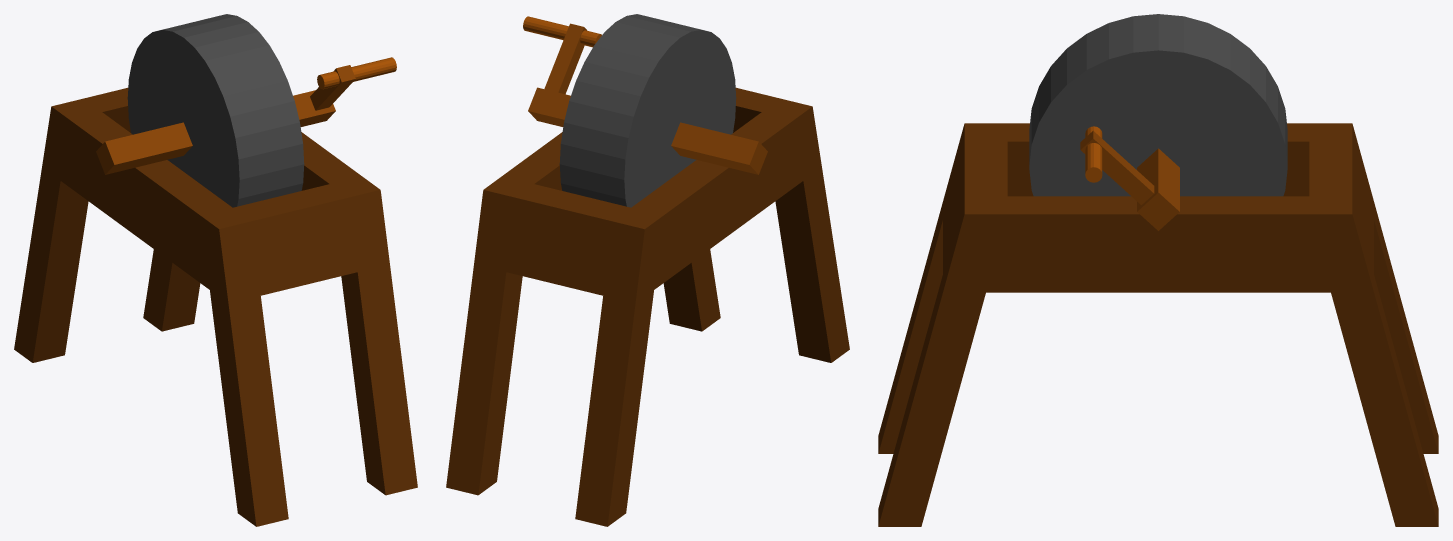
Rendered from rebolo.fbx.
The picture shows the model from 3 angles, left to right: view 1: azimuth 30°, elevation 25°; view 2: azimuth 150°, elevation 25°; view 3: azimuth 270°, elevation 25°; orthographic projection. The views are drawn at different scales.
Parts seen in each view (by area): view 1: Base, Pedra; view 2: Base, Pedra; view 3: Base, Pedra.
Part boxes in pixels (bbox=[...]): Base: bbox=[14, 87, 417, 526]; Pedra: bbox=[96, 14, 396, 207]; Base: bbox=[446, 87, 849, 526]; Pedra: bbox=[523, 14, 767, 207]; Base: bbox=[878, 123, 1438, 526]; Pedra: bbox=[1029, 14, 1287, 230].
Bounding box in the file's own units: 161 × 230 × 260.
